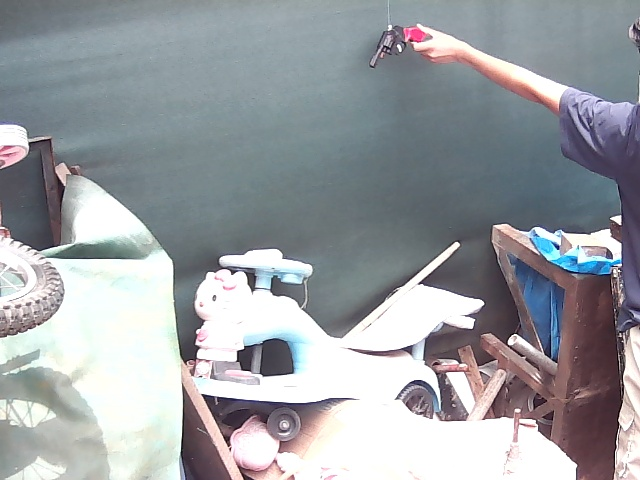pistola: (363, 20, 422, 71)
